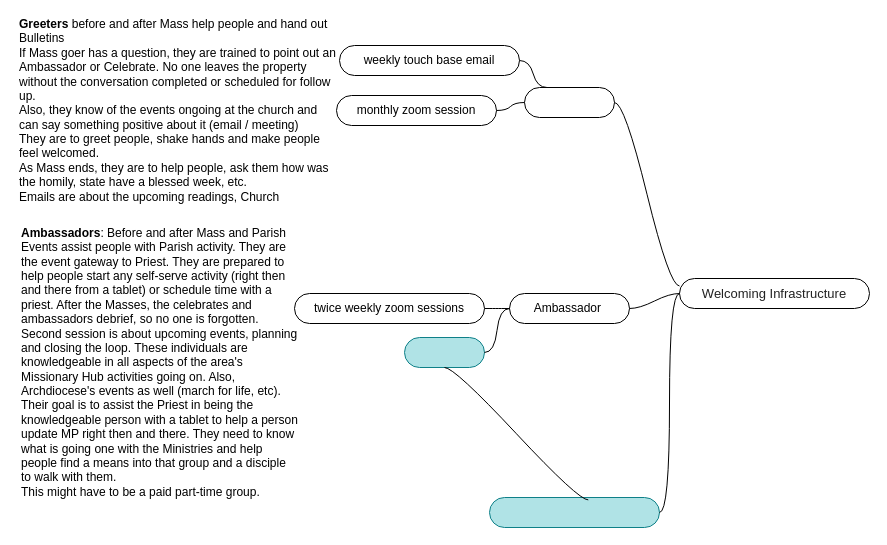
Some shapes in this 887 by 545 pixel diagram are drawn without their labels. The box of each missing label's shape, as (x1, y1, x2, y2) in pixels:
Greeters: (524, 86, 614, 118)
Self-Serve Technologies: (488, 496, 660, 528)
Tablet: (404, 336, 484, 368)
